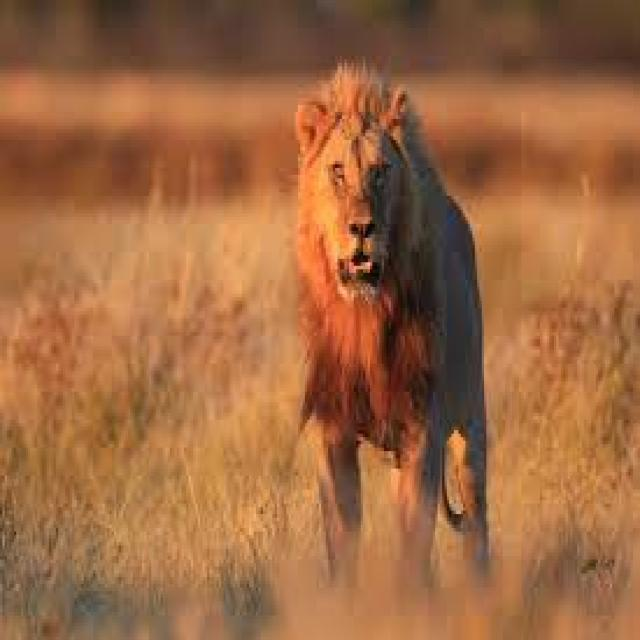Lion: (293, 64, 490, 614)
